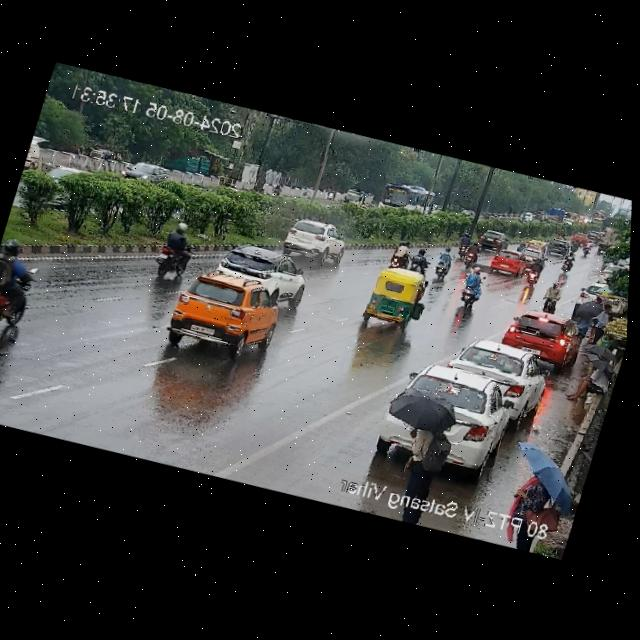bus: (373, 174, 441, 222)
car: (367, 351, 521, 486), (154, 254, 288, 369), (437, 330, 556, 436), (208, 234, 319, 308), (500, 306, 589, 374), (358, 263, 437, 337), (273, 213, 350, 270), (120, 156, 174, 189), (474, 226, 512, 259), (486, 249, 525, 280), (541, 235, 571, 258), (581, 227, 603, 248), (570, 227, 589, 249), (524, 236, 547, 254), (517, 247, 544, 262), (516, 209, 535, 224)
motorcycle: (0, 234, 51, 341), (139, 218, 201, 285), (382, 236, 425, 277), (452, 266, 489, 311), (430, 244, 457, 281), (522, 254, 545, 290), (409, 244, 436, 274), (460, 236, 482, 272), (453, 231, 473, 262), (556, 253, 579, 276), (580, 240, 595, 257), (568, 238, 582, 254), (269, 180, 282, 195), (513, 240, 526, 253), (555, 225, 565, 241)
person: (367, 387, 465, 502), (490, 434, 589, 530), (560, 350, 619, 411), (564, 288, 617, 347)
